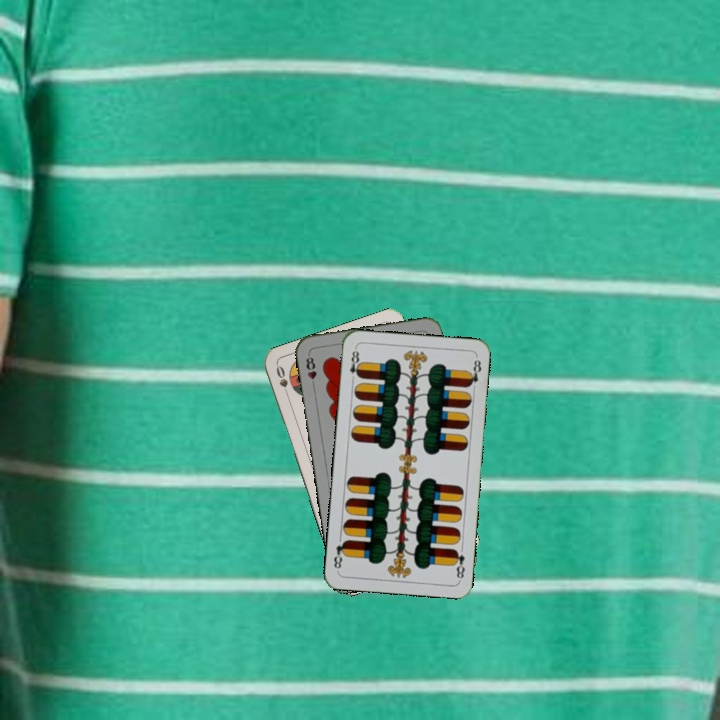E8: (346, 344, 364, 385), (449, 545, 467, 582)
H8: (302, 350, 319, 391)
SO: (272, 361, 292, 401)
